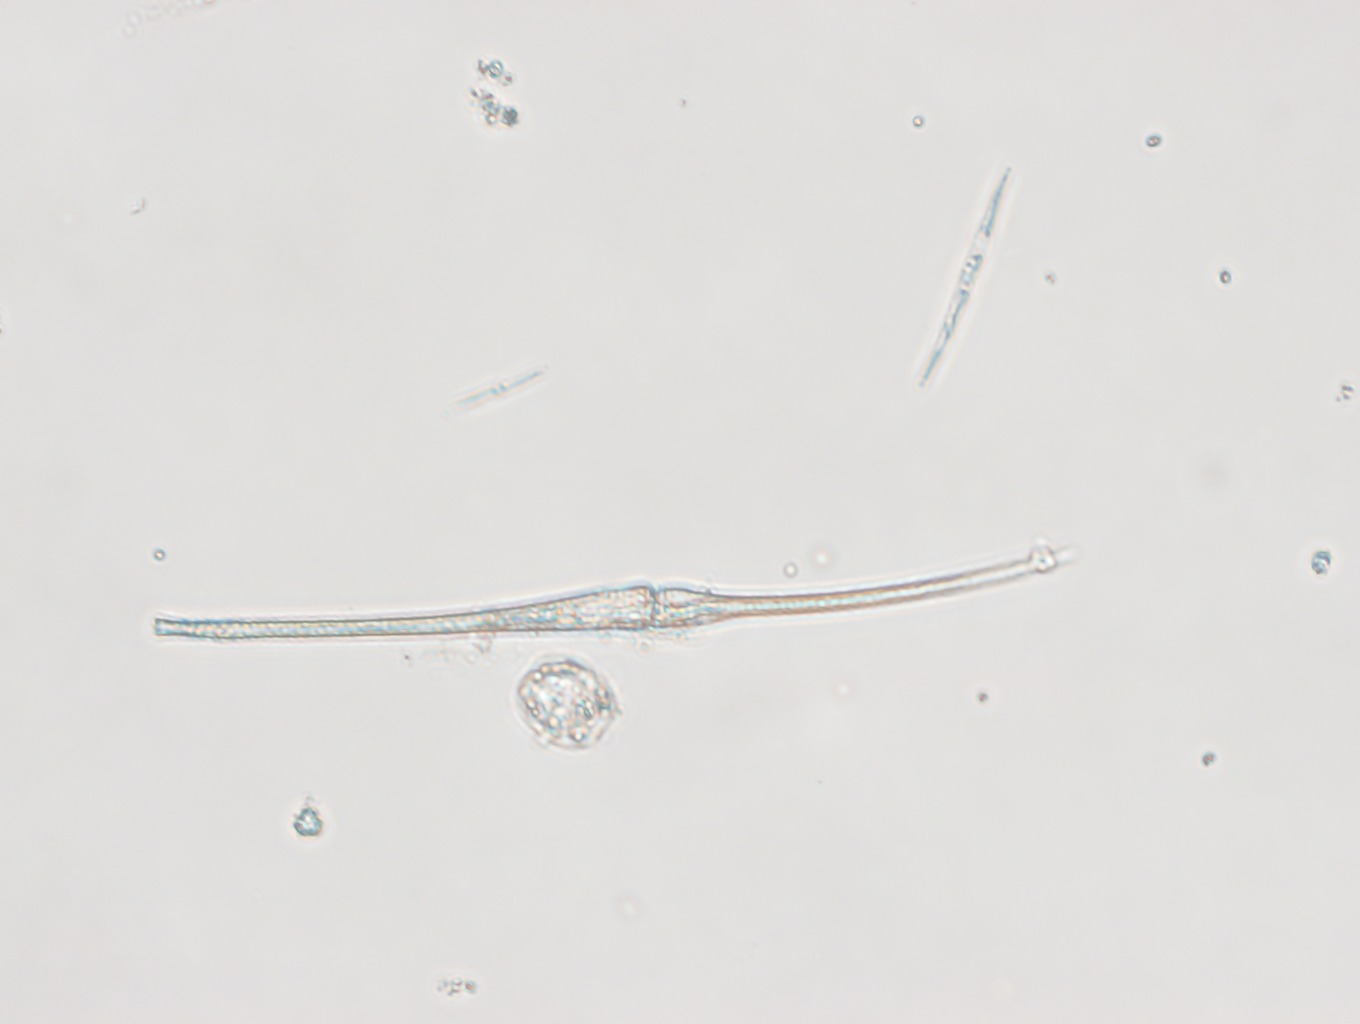ceratium fusus: (152, 546, 1071, 637)
pleurosigma pelagicum: (917, 160, 1014, 395)
